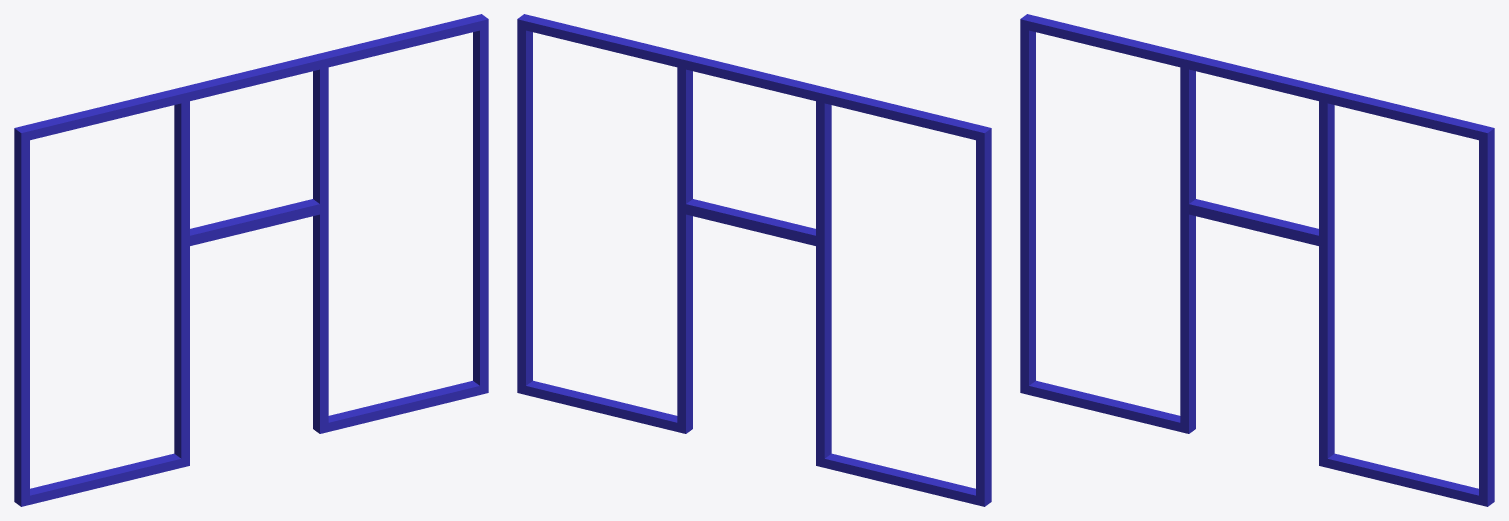
File: WallFrameDoor.fbx
The picture shows the model from 3 angles, left to right: view 1: azimuth 30°, elevation 25°; view 2: azimuth 150°, elevation 25°; view 3: azimuth 330°, elevation 25°; orthographic projection.
Parts seen in each view (by area): view 1: WallFrameDoor; view 2: WallFrameDoor; view 3: WallFrameDoor.
Part boxes in pixels (left/top/right/bottom): WallFrameDoor: left=14, top=14, right=488, bottom=506; WallFrameDoor: left=517, top=14, right=991, bottom=506; WallFrameDoor: left=1020, top=14, right=1494, bottom=506.
Bounding box in the file's own units: 720 × 550 × 18.86.
